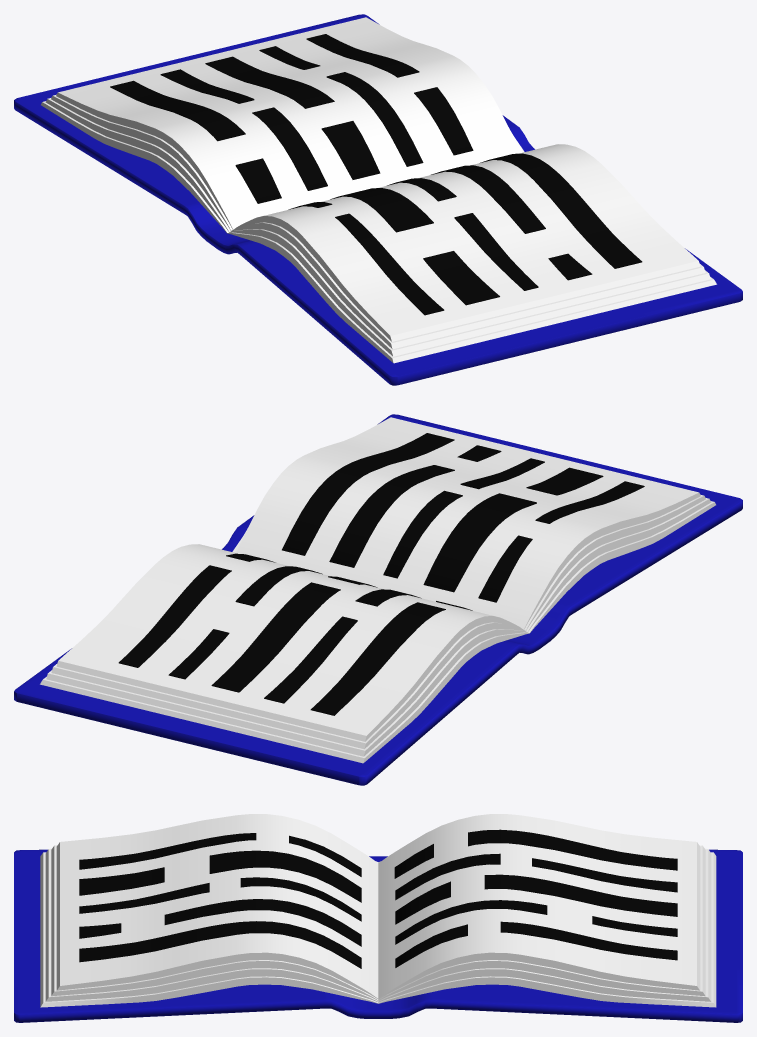
The model's file is Book_Open.FBX.
3 views of the same model, one above another, from view 1: azimuth 30°, elevation 25°; view 2: azimuth 150°, elevation 25°; view 3: azimuth 270°, elevation 25° (orthographic). The views are drawn at different scales.
Parts seen in each view (by area): view 1: Box109; view 2: Box109; view 3: Box109.
Boxes of the visible parts, x1,y1,x2,y2 form: Box109: [14, 14, 742, 385]; Box109: [14, 414, 742, 785]; Box109: [14, 814, 742, 1022].
Bounding box in the file's own units: 1897 × 315 × 3549.
